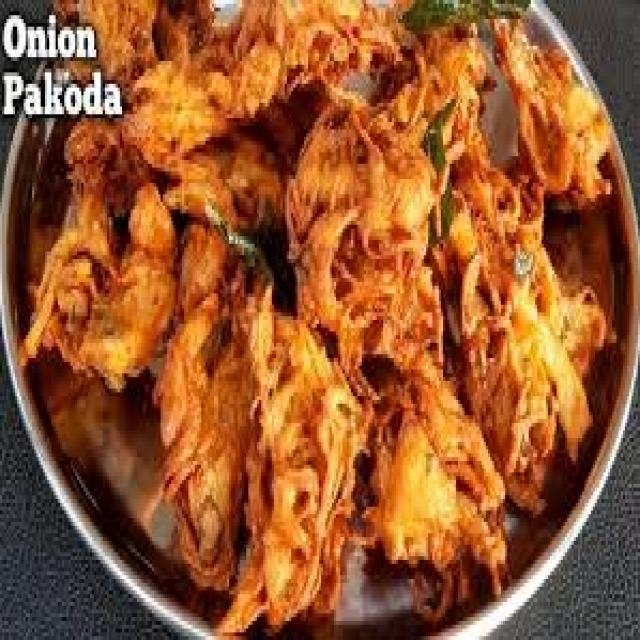BAJI: (22, 0, 612, 636)
